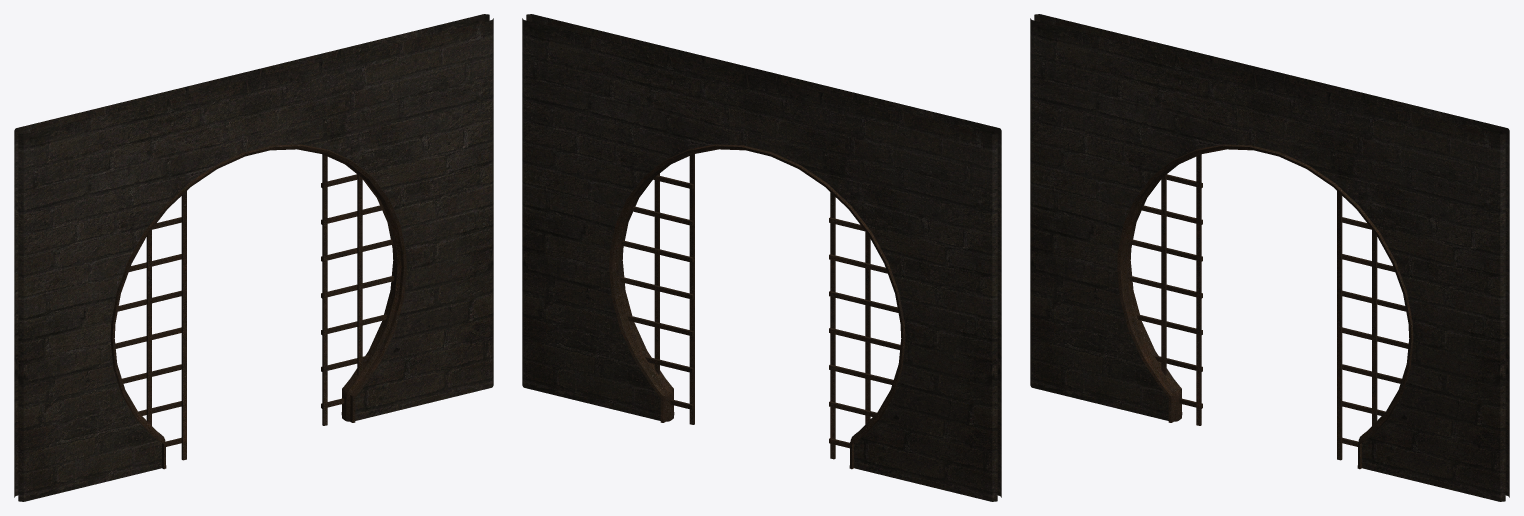
The model's file is wall_1_tunnel_hole_1.glb.
The picture shows the model from 3 angles, left to right: view 1: azimuth 30°, elevation 25°; view 2: azimuth 150°, elevation 25°; view 3: azimuth 330°, elevation 25°; orthographic projection.
Parts seen in each view (by area): view 1: wall_1_tunnel_hole_1; view 2: wall_1_tunnel_hole_1; view 3: wall_1_tunnel_hole_1.
Part boxes in pixels (left/top/right/bottom): wall_1_tunnel_hole_1: left=14, top=14, right=493, bottom=501; wall_1_tunnel_hole_1: left=522, top=14, right=1001, bottom=501; wall_1_tunnel_hole_1: left=1030, top=14, right=1509, bottom=501.
Size of the model in its own units: 4.06 by 3 by 0.1697.
Materials: 2 (2 with a texture image).
